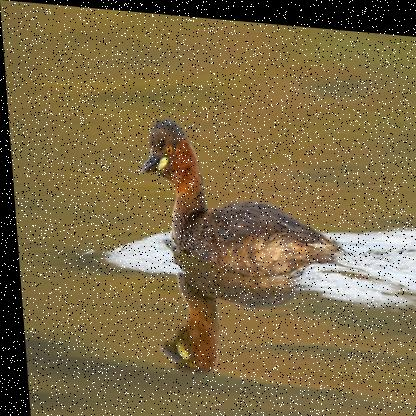Burung: (133, 113, 340, 275)
